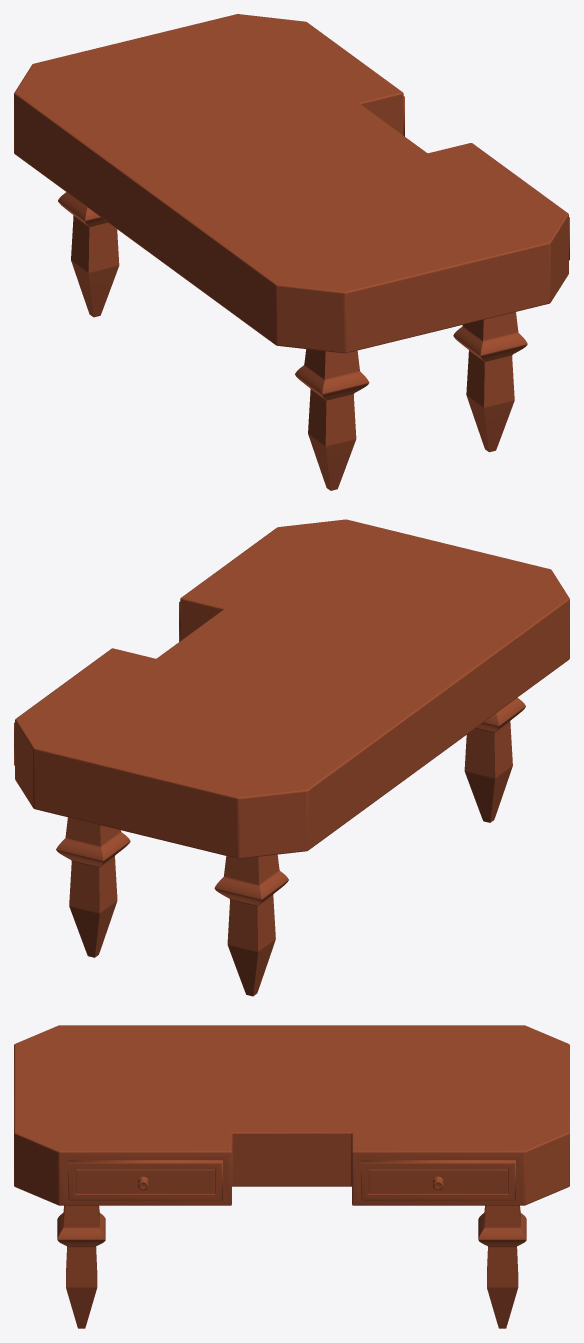
Rendered from Escritorio.fbx.
The picture shows the model from 3 angles, top to bottom: view 1: azimuth 30°, elevation 25°; view 2: azimuth 150°, elevation 25°; view 3: azimuth 270°, elevation 25°; orthographic projection. The views are drawn at different scales.
Parts seen in each view (by area): view 1: Escritorio; view 2: Escritorio; view 3: Escritorio.
Part boxes in pixels (<box>): Escritorio: <box>14,14,569,490</box>; Escritorio: <box>14,519,569,996</box>; Escritorio: <box>14,1025,569,1328</box>.
Bounding box in the file's own units: 41.66 × 29.53 × 72.83.
